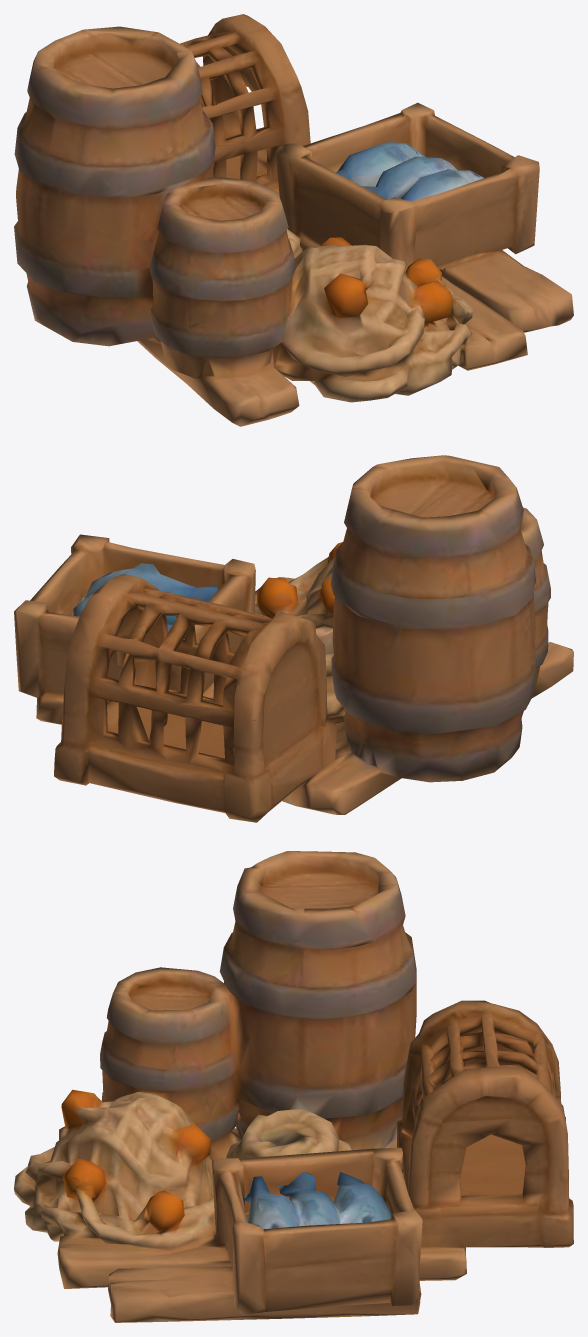
The model's file is dock.glb.
3 renders of one model, top to bottom at view 1: azimuth 30°, elevation 25°; view 2: azimuth 150°, elevation 25°; view 3: azimuth 270°, elevation 25°, orthographic. The views are drawn at different scales.
Visible parts, largest first — view 1: tripo_node_1a564681-a558-4f1e-a5da-ef43d528a9e2; view 2: tripo_node_1a564681-a558-4f1e-a5da-ef43d528a9e2; view 3: tripo_node_1a564681-a558-4f1e-a5da-ef43d528a9e2.
Part boxes in pixels (<box>): tripo_node_1a564681-a558-4f1e-a5da-ef43d528a9e2: <box>14,14,573,426</box>; tripo_node_1a564681-a558-4f1e-a5da-ef43d528a9e2: <box>14,455,573,822</box>; tripo_node_1a564681-a558-4f1e-a5da-ef43d528a9e2: <box>14,851,573,1322</box>.
Size of the model in its own units: 0.9682 by 0.5328 by 1.
Materials: 1 (1 with a texture image).
